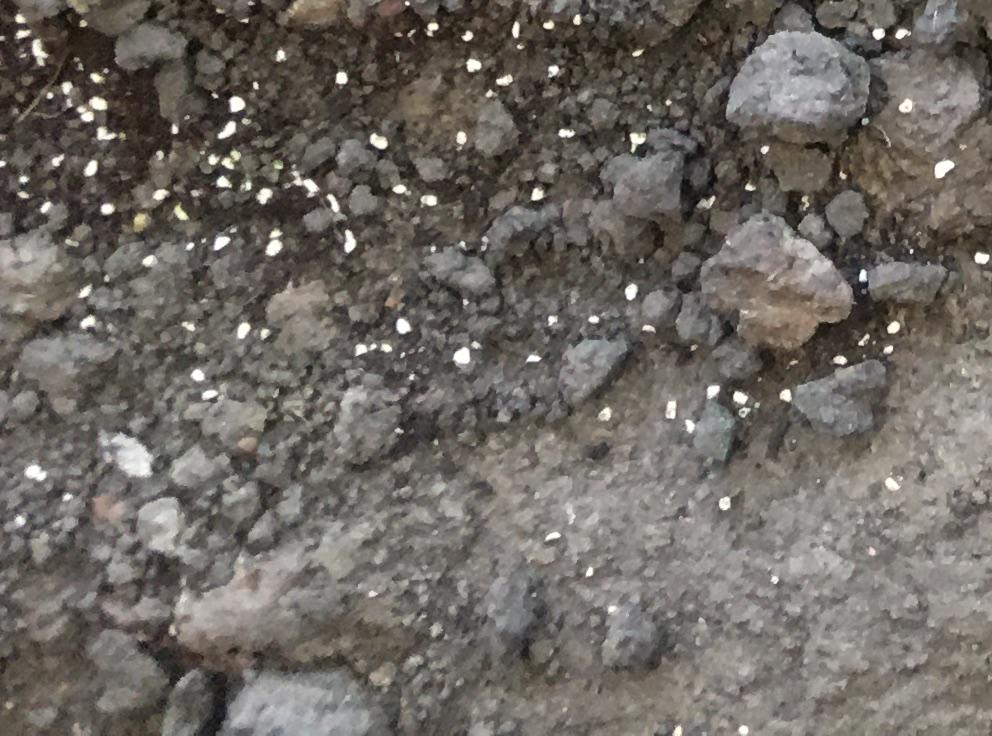block: (694, 209, 852, 353), (721, 25, 873, 162)
